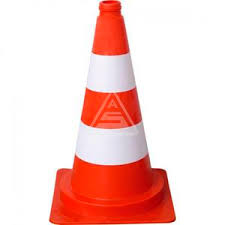cones: (52, 1, 178, 224)
